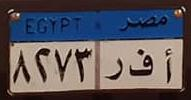2: (32, 47, 52, 84)
3: (74, 46, 93, 86)
7: (53, 47, 72, 84)
8: (11, 49, 32, 86)
alif: (160, 47, 175, 86)
faa: (127, 48, 154, 78)
raa: (102, 56, 126, 85)
